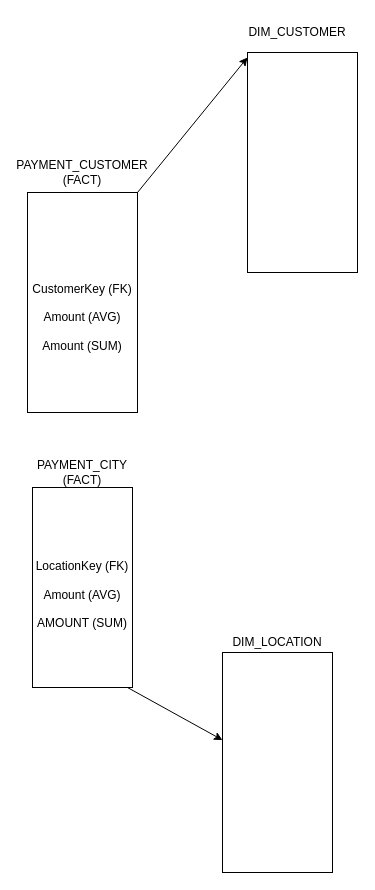
Image size: 375x890. Some labels were removed from this diagram. The centre of each missing label's shape, as x and y in pixels:
CustomerKey(PK) CustomerID FullName: the point at 302,162
LocationKey (PK) AddressID CityCountry: the point at 277,762
